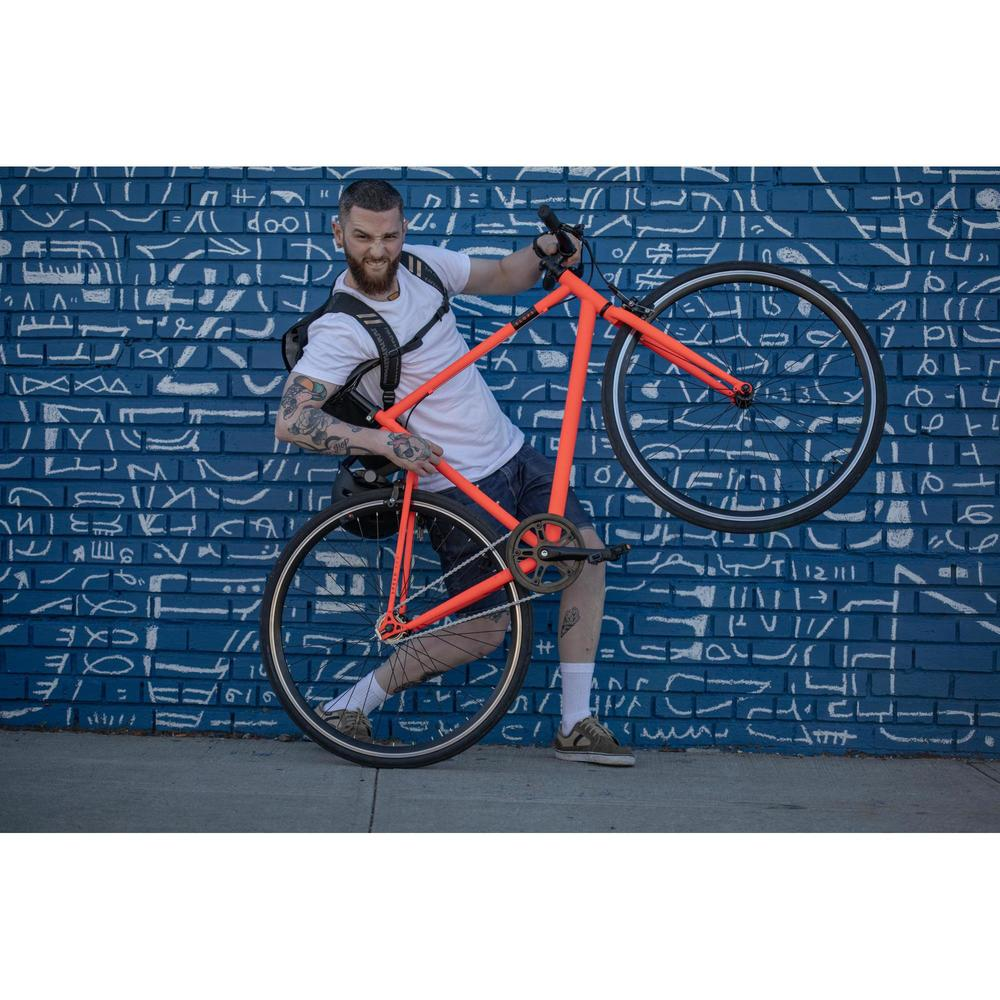UrbanBike: (247, 197, 897, 782)
